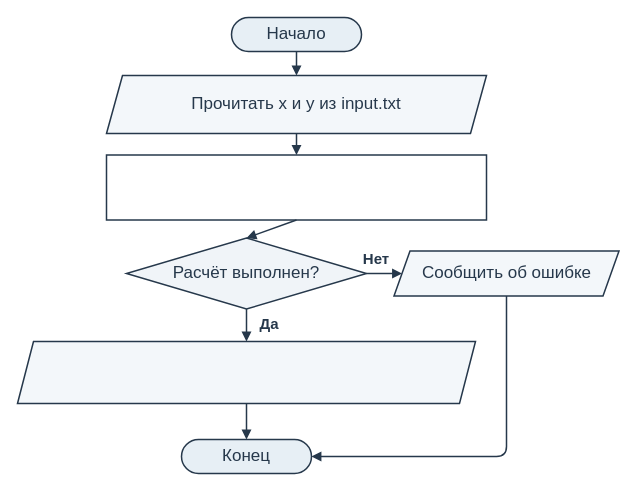
Image size: 637x492. Some labels were removed from this diagram. Here are the shapes that lost their labels. From the top down, the centre of each, then its label:
At pixel 296 187: "Вызвать calculate(x, y) и вычислить формулу варианта".
At pixel 246 372: "Округлить результат и получить целую часть Вывести их и записать в файл".
